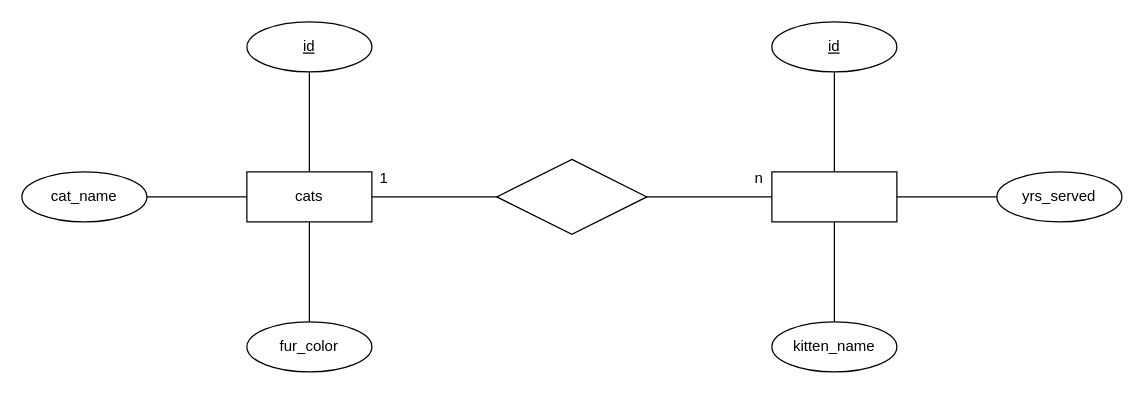
The diagram is 1144 pixels wide and 394 high, and some of its shapes have lost their labels. The centre of each missing label's shape, as x and y in pixels:
"has a" belongs at point 571,196.
"kitten" belongs at point 834,196.
